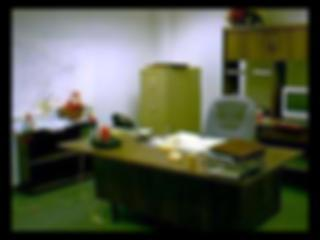Armario: (140, 69, 199, 128)
